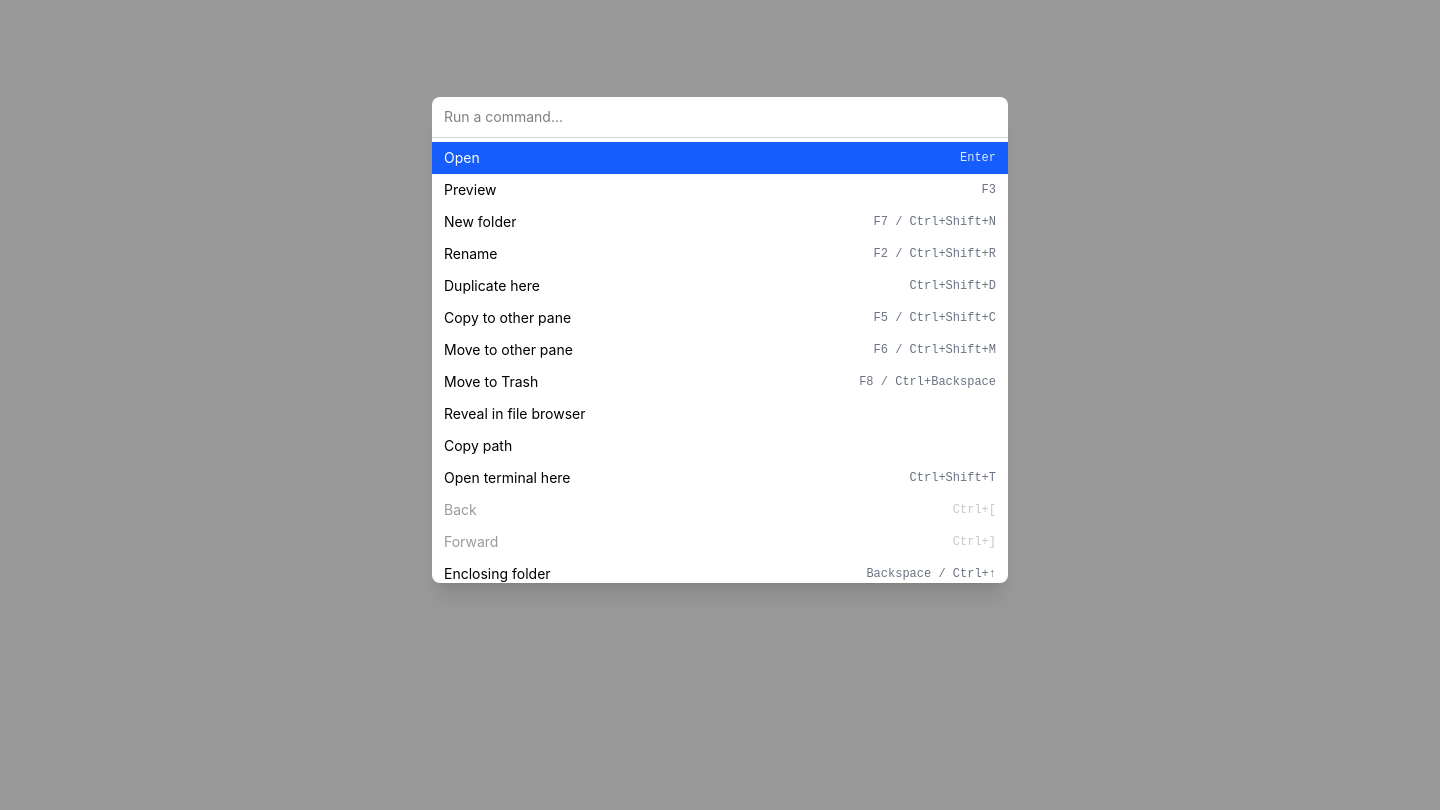
the command palette › says so plainly when nothing matches
Type "zzzz" into the dropdown at [720, 118], box [432, 97, 1008, 138]
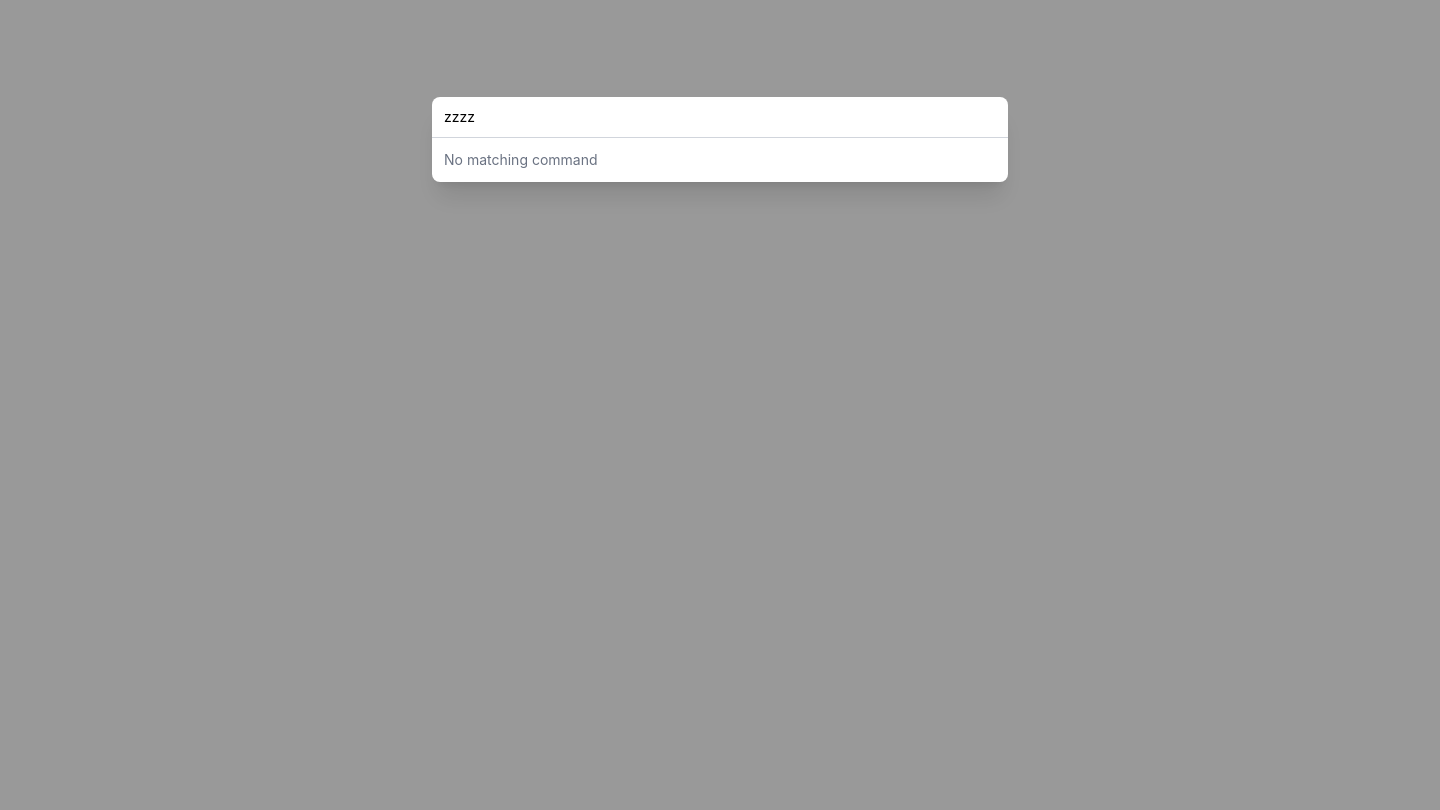
Check: the list item "No matching command" is shown, box [444, 151, 598, 168]
Check: no options are shown
